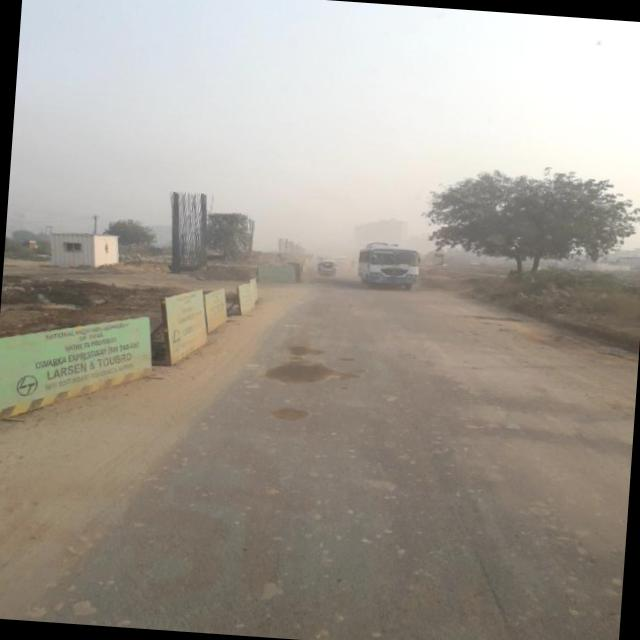pothole: (455, 504, 531, 640)
